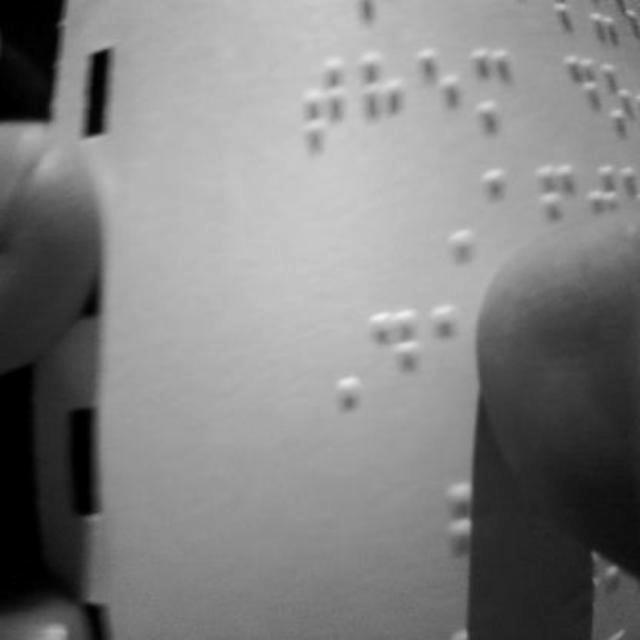braiile: (366, 300, 426, 410), (358, 50, 408, 152), (298, 52, 346, 156), (415, 45, 461, 145), (470, 41, 514, 137)
